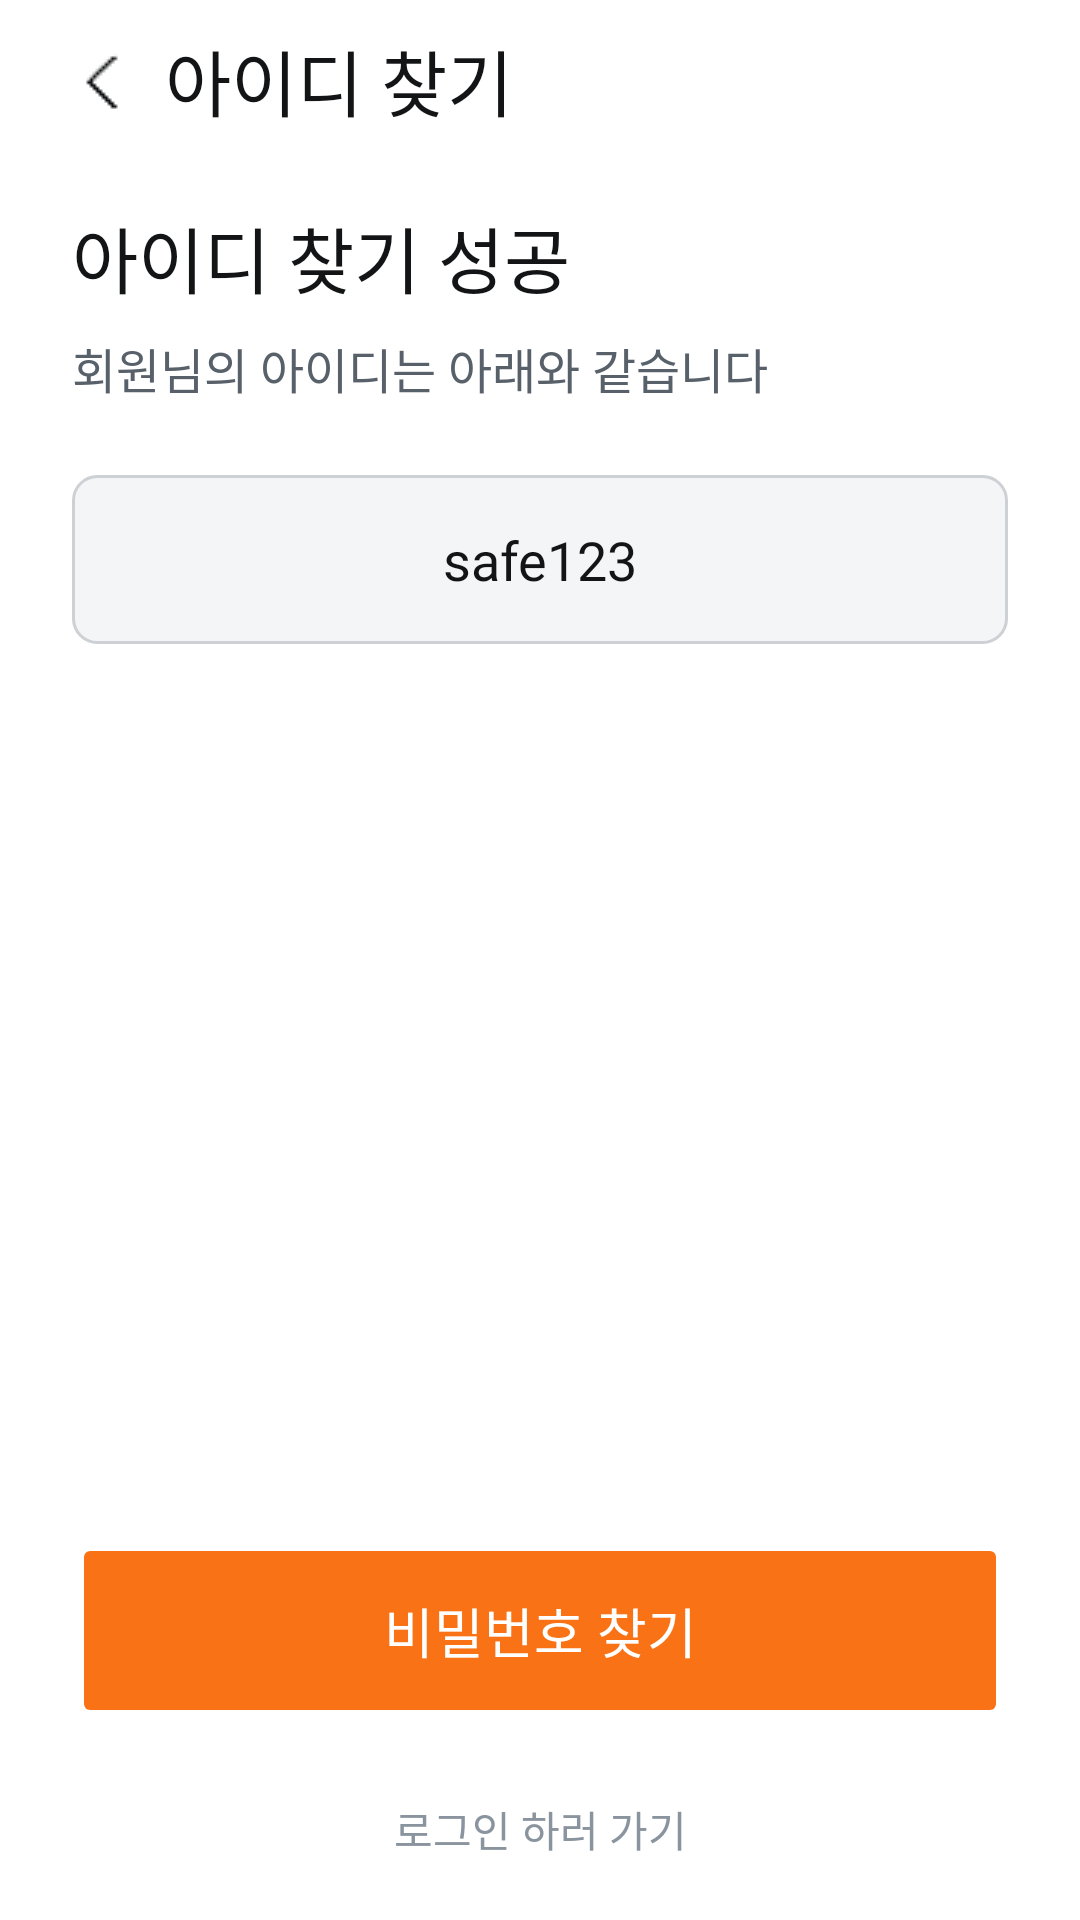

Named icons in this screenshot (1080x1920) and their bounding boxes, (x1, y1, x2, y2):
back: (86, 56, 118, 109)
